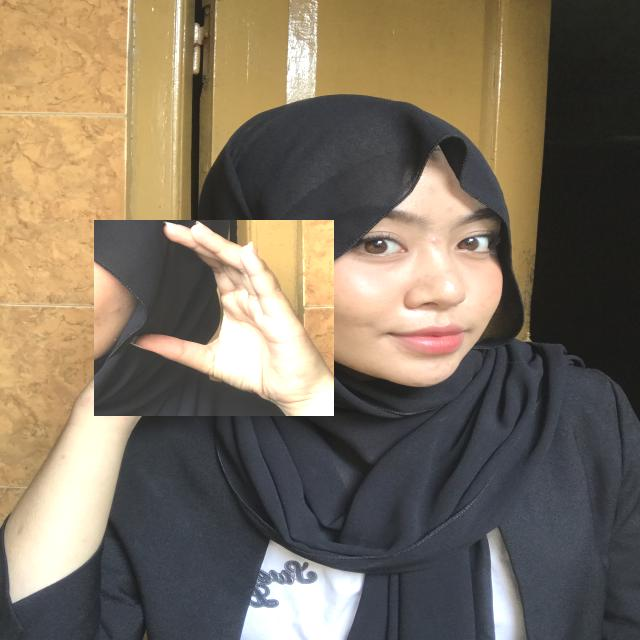mendengar: (94, 220, 334, 416)
